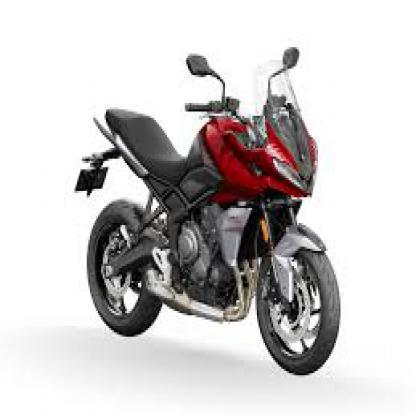Motorcycle: (74, 32, 344, 380)
